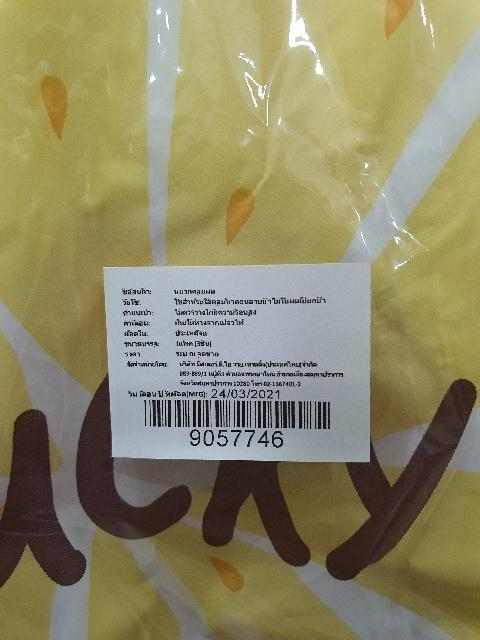Barcode: (133, 395, 340, 453)
